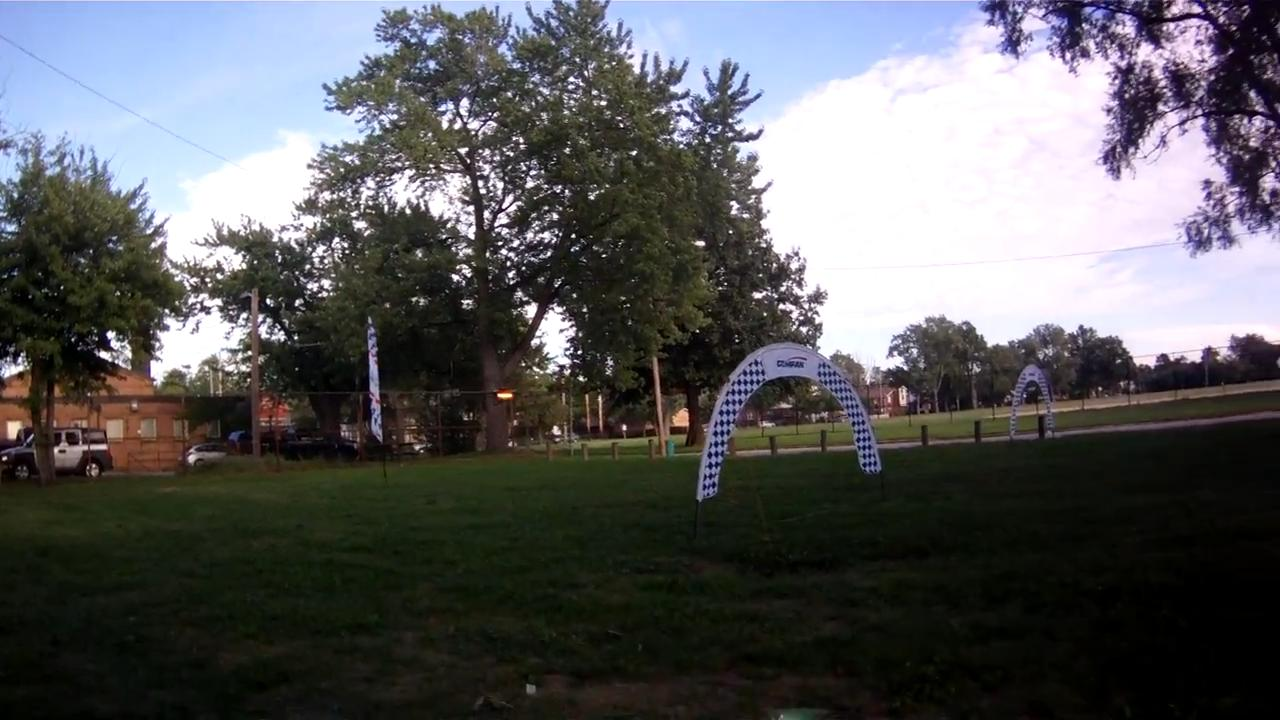gate: (691, 340, 881, 502)
